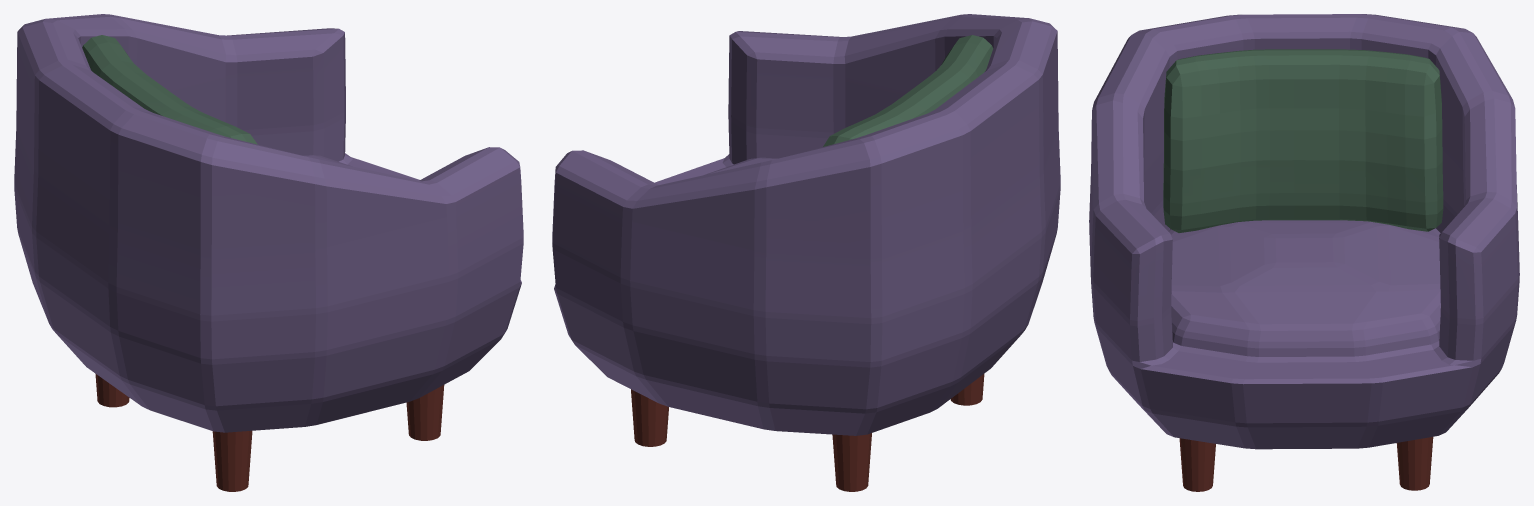
File: Livingroom_Armchair.fbx
3 renders of one model, left to right at view 1: azimuth 30°, elevation 25°; view 2: azimuth 150°, elevation 25°; view 3: azimuth 270°, elevation 25°, orthographic. The views are drawn at different scales.
Visible parts, largest first — view 1: Livingroom_Armchair.002, Livingroom_Armchair.001, Livingroom_Armchair; view 2: Livingroom_Armchair.002, Livingroom_Armchair.001, Livingroom_Armchair; view 3: Livingroom_Armchair.002, Livingroom_Armchair.001, Livingroom_Armchair.
Part boxes in pixels (x1,y1,x2,y2): Livingroom_Armchair.002: [14, 14, 523, 432]; Livingroom_Armchair.001: [82, 35, 257, 144]; Livingroom_Armchair: [95, 373, 444, 491]; Livingroom_Armchair.002: [552, 14, 1060, 435]; Livingroom_Armchair.001: [823, 35, 993, 146]; Livingroom_Armchair: [631, 374, 984, 491]; Livingroom_Armchair.002: [1089, 14, 1519, 449]; Livingroom_Armchair.001: [1163, 49, 1443, 232]; Livingroom_Armchair: [1179, 437, 1433, 491].
Size of the model in its own units: 99.82 by 88.62 by 98.91.
